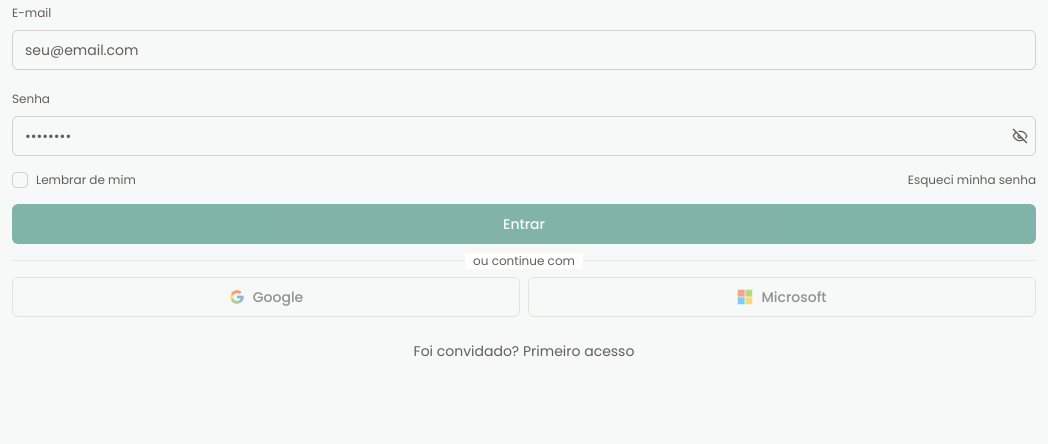
Scenario: LoginForm › mostra mensagem de rate limit (429)
Type "user@teste.dev" into the field labelled "E-mail" at (524, 50), box [12, 30, 1036, 70]
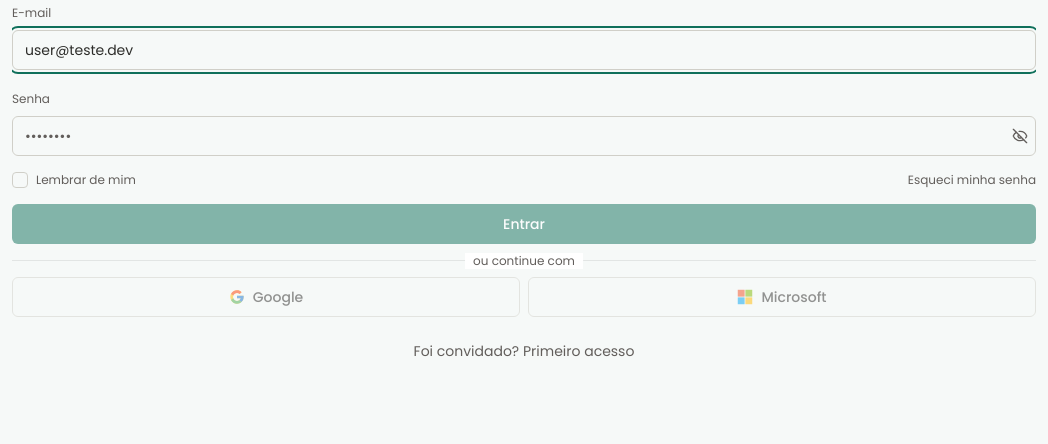
Type "senha123" into the password field labelled "Senha" at (524, 136), box [12, 116, 1036, 156]
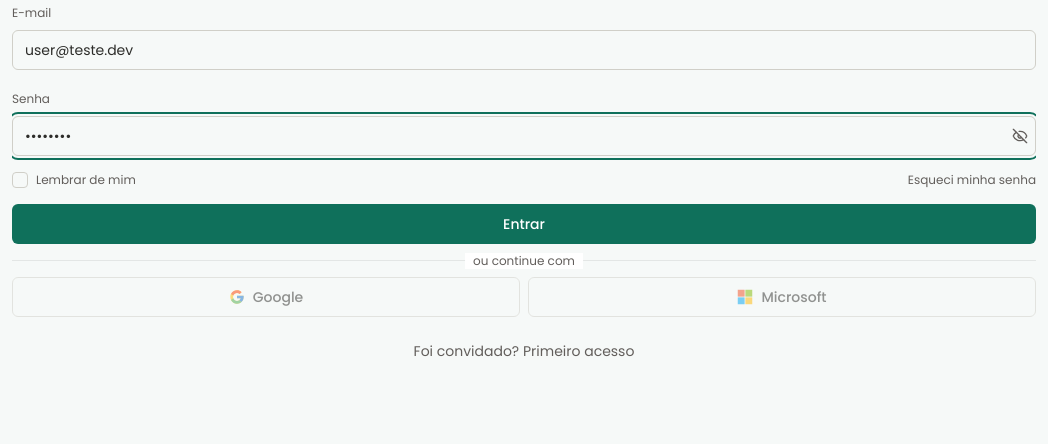
Click the button "Entrar" at (524, 224), box [12, 204, 1036, 244]
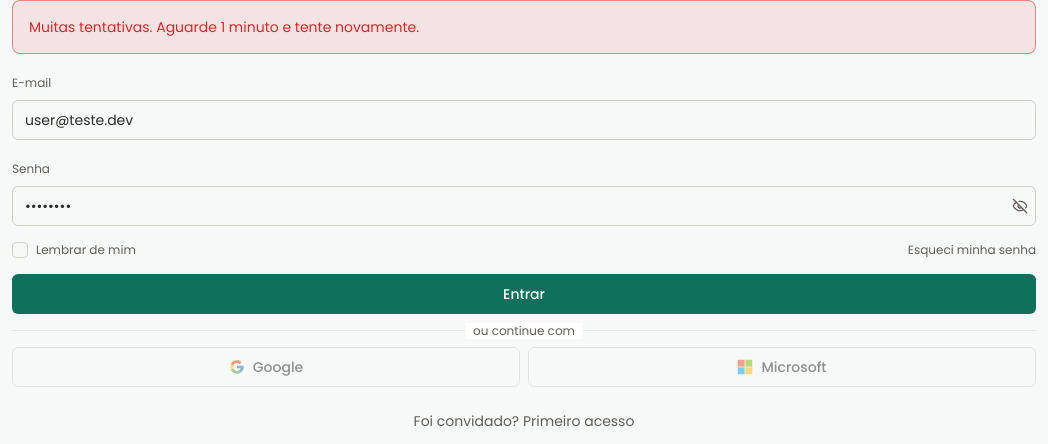
Now the text "Muitas tentativas. Aguarde 1 minuto e tente novamente." is shown, box [29, 17, 419, 37]
